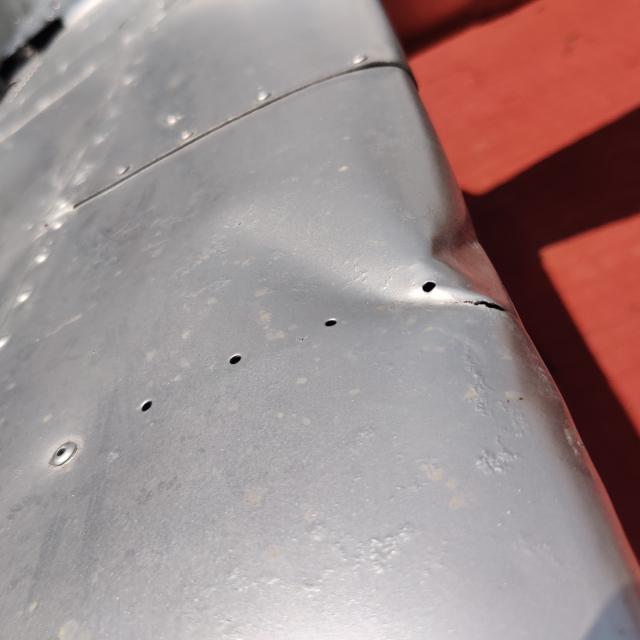crack: (450, 288, 525, 322)
dent: (335, 183, 544, 352)
